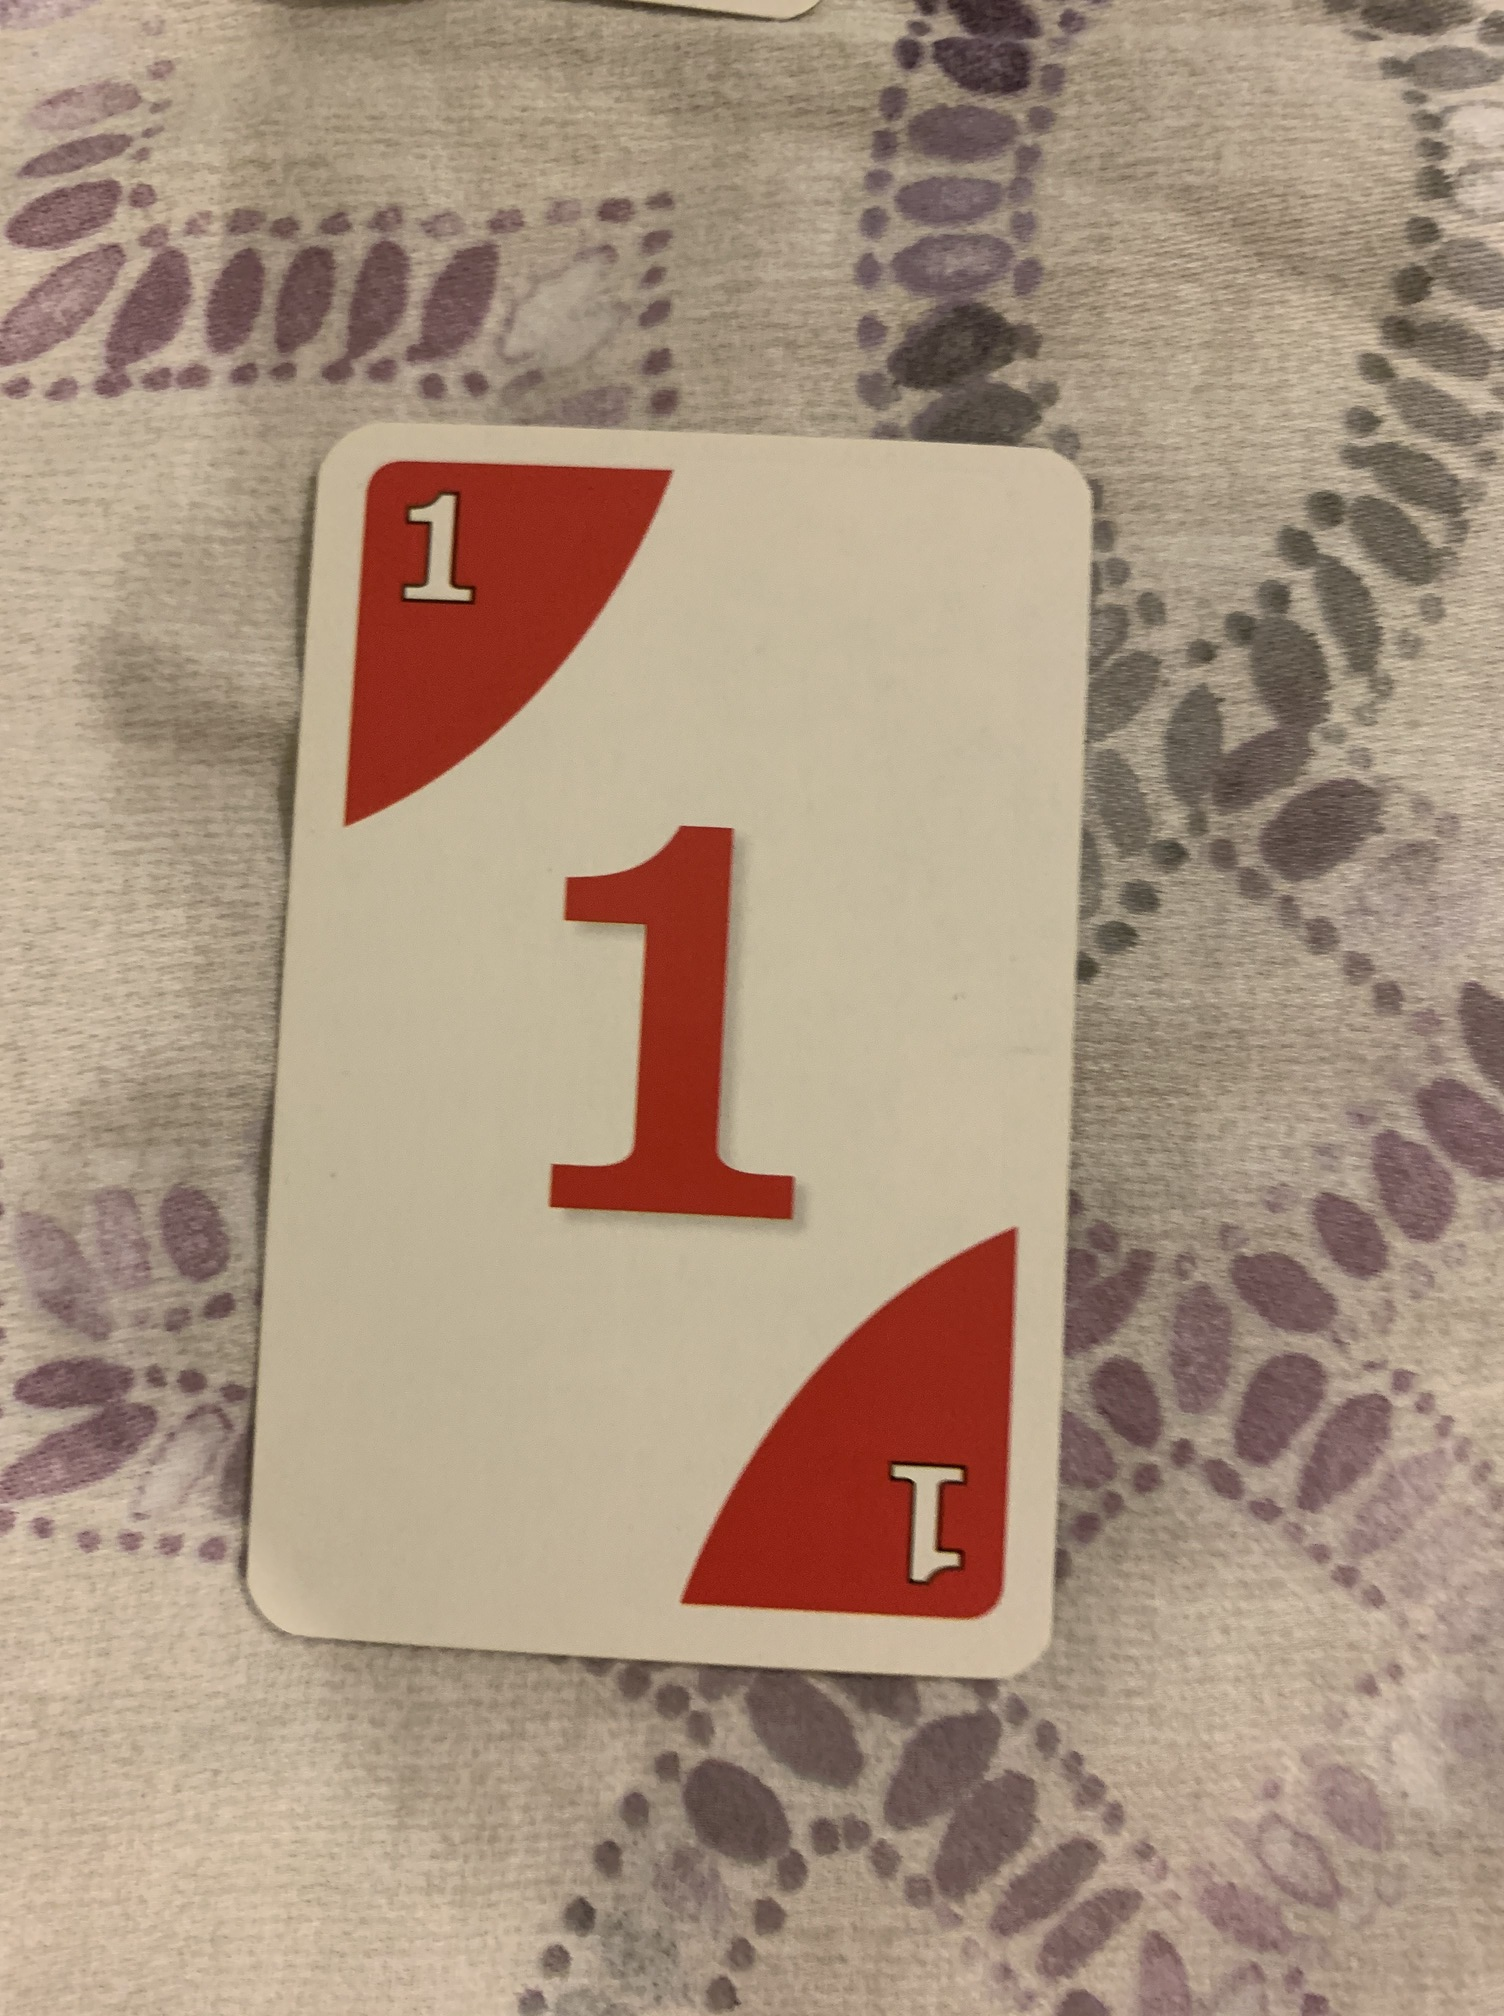one: (232, 416, 1111, 1694)
